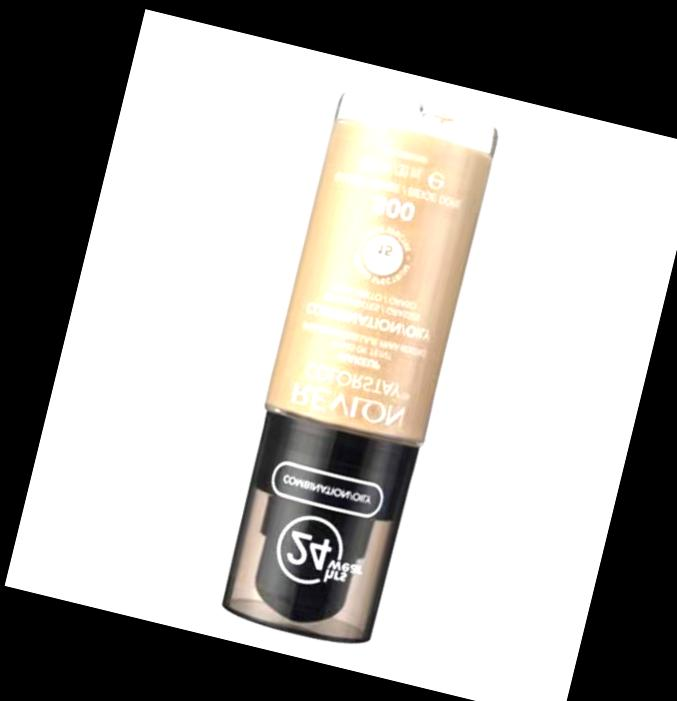cosmetic: (212, 89, 503, 653)
